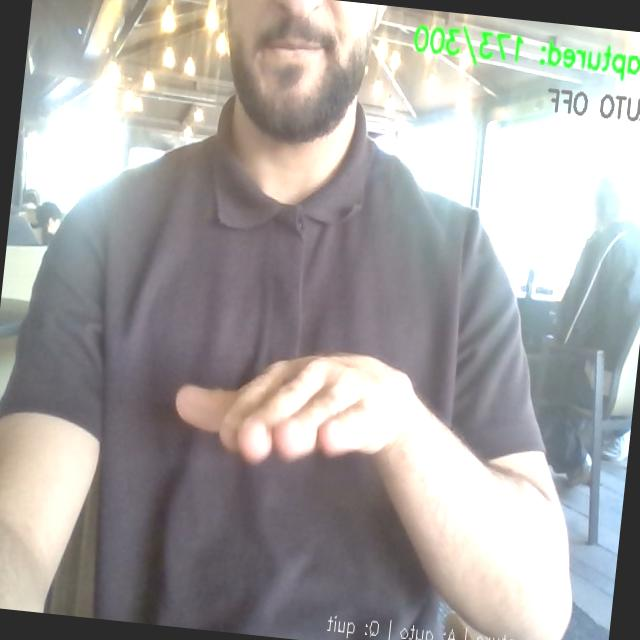Hand: (176, 355, 416, 462)
